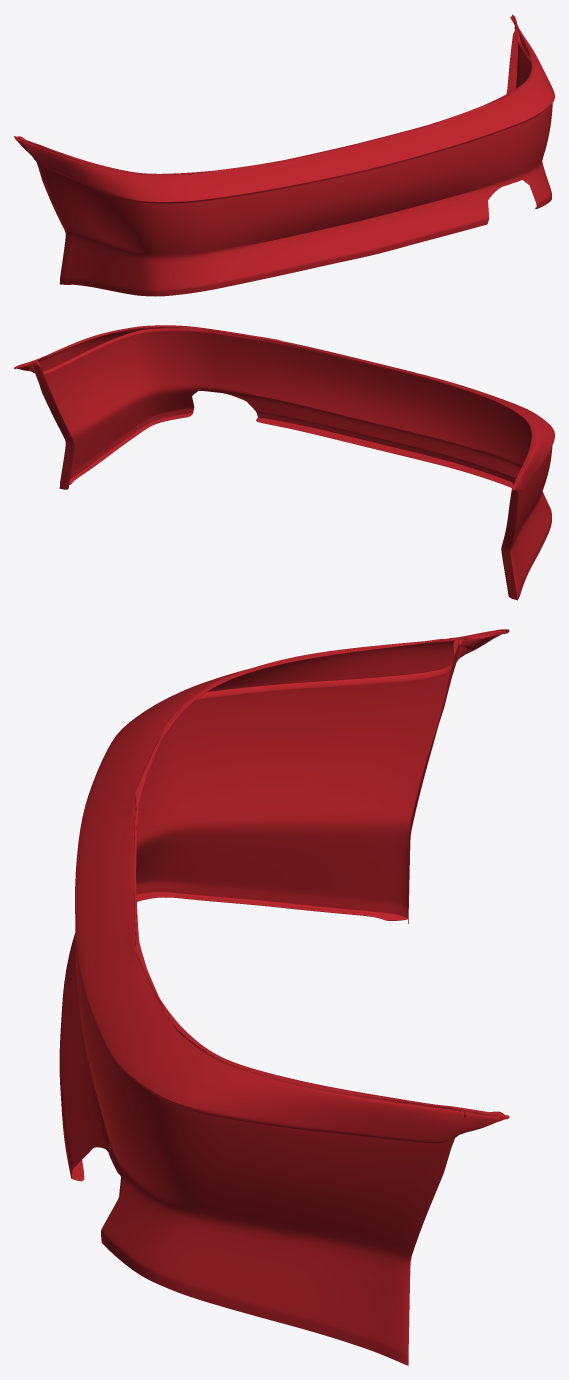
The picture shows the model from 3 angles, top to bottom: view 1: azimuth 30°, elevation 25°; view 2: azimuth 150°, elevation 25°; view 3: azimuth 270°, elevation 25°; orthographic projection. The views are drawn at different scales.
Parts seen in each view (by area): view 1: Miata_Aero_RearBarBN; view 2: Miata_Aero_RearBarBN; view 3: Miata_Aero_RearBarBN.
Boxes of the visible parts, x1,y1,x2,y2 form: Miata_Aero_RearBarBN: (14,14,554,296); Miata_Aero_RearBarBN: (14,325,554,600); Miata_Aero_RearBarBN: (59,629,509,1365).
Bounding box in the file's own units: 65.05 × 16.98 × 25.35.
